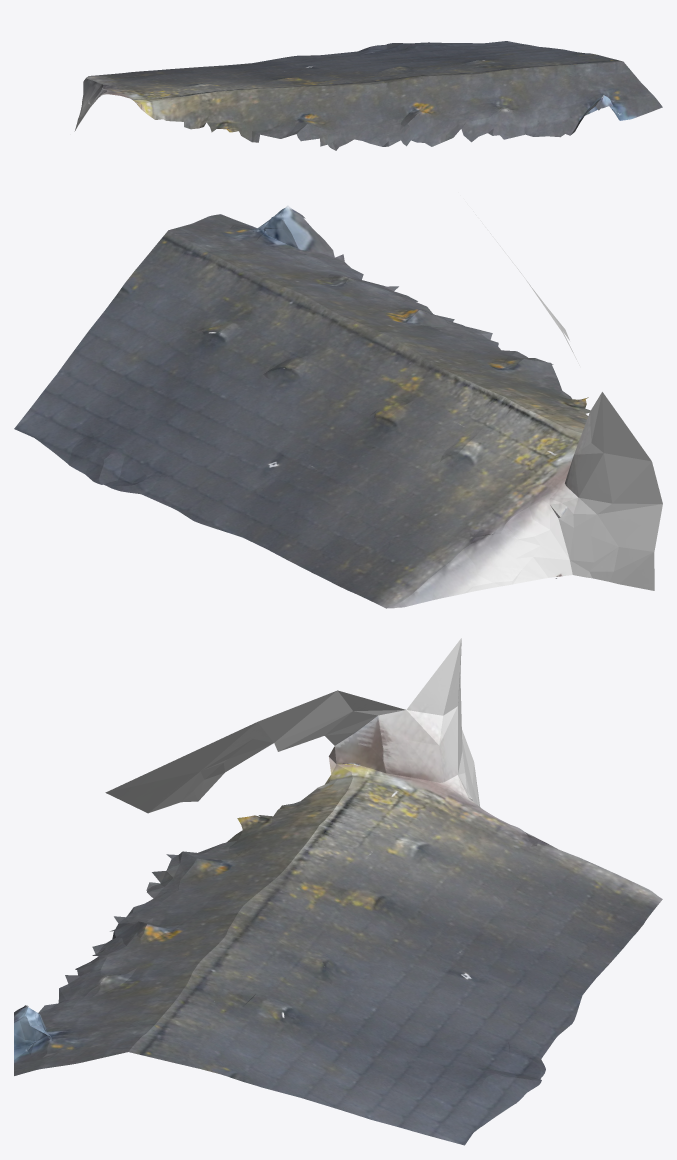
3 renders of one model, top to bottom at view 1: azimuth 30°, elevation 25°; view 2: azimuth 150°, elevation 25°; view 3: azimuth 270°, elevation 25°, orthographic. The views are drawn at different scales.
Size of the model in its own units: 6.14 by 1.72 by 4.9.
Materials: 1 (1 with a texture image).
